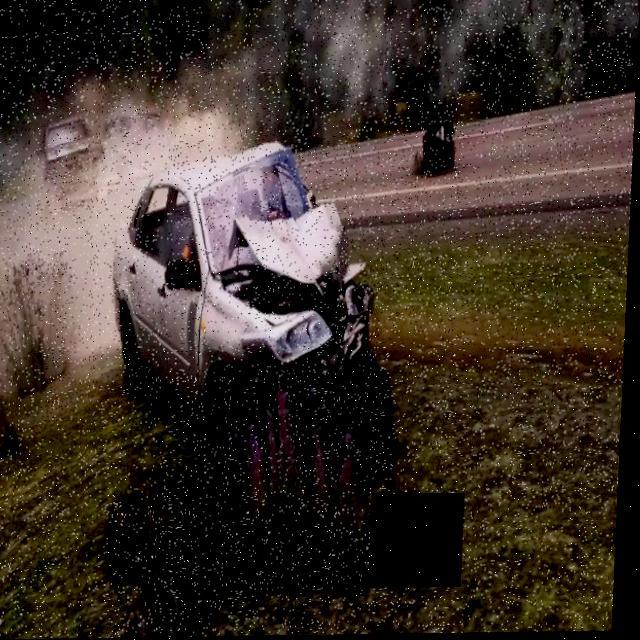single accident: (75, 115, 427, 558)
